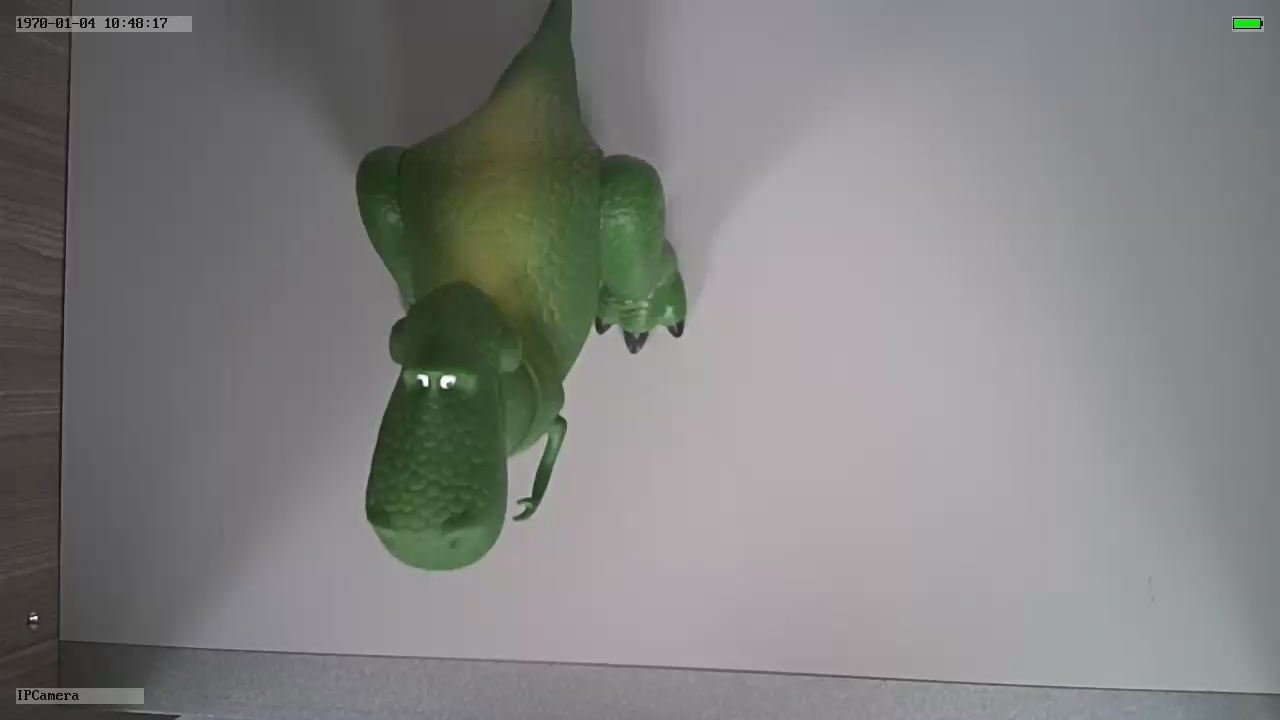rex: (353, 58, 694, 571)
